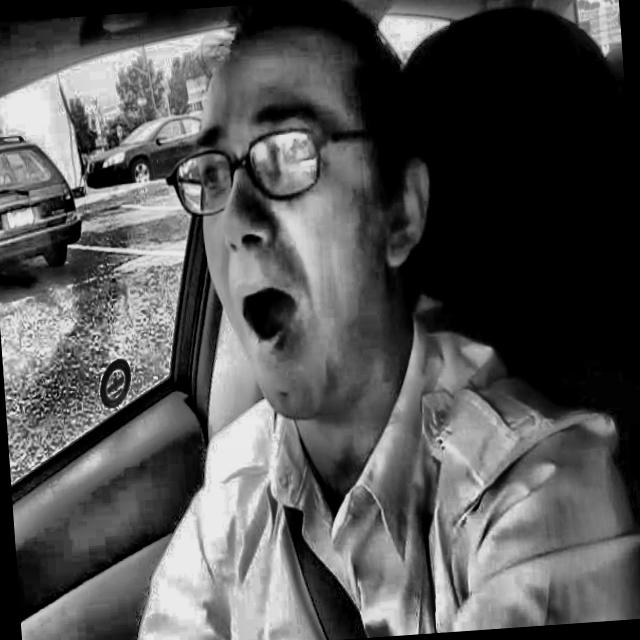open_eyes: (174, 151, 236, 213)
open_mouth: (218, 270, 318, 374)
